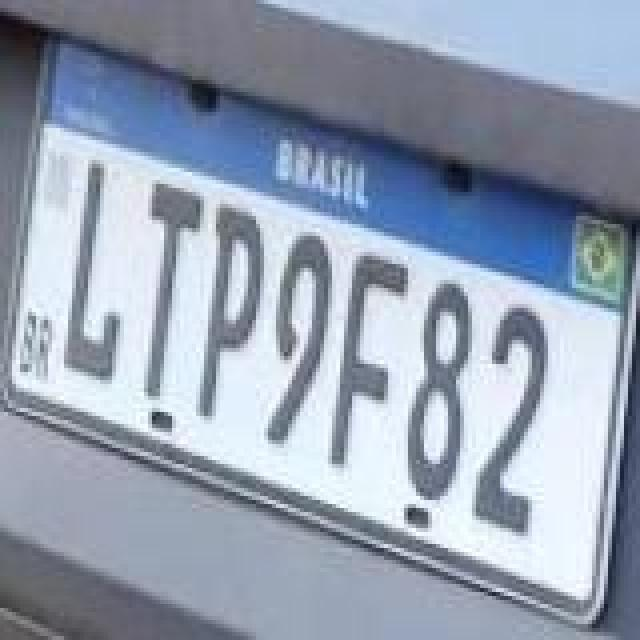2: (474, 300, 550, 532)
8: (406, 282, 474, 502)
9: (260, 228, 332, 444)
F: (326, 250, 410, 470)
L: (64, 160, 120, 384)
P: (198, 204, 266, 420)
T: (140, 182, 204, 402)
